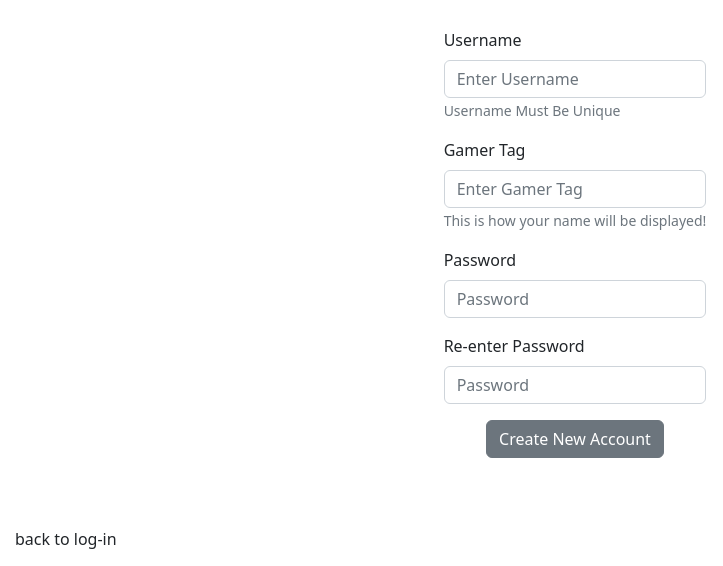
Ticket # and story name › should check that passwords do not match
This screenshot has width=723, height=566.
Step 1. Type "testUsername" into the field labelled "Username" → (575, 79), box [444,60,706,98]
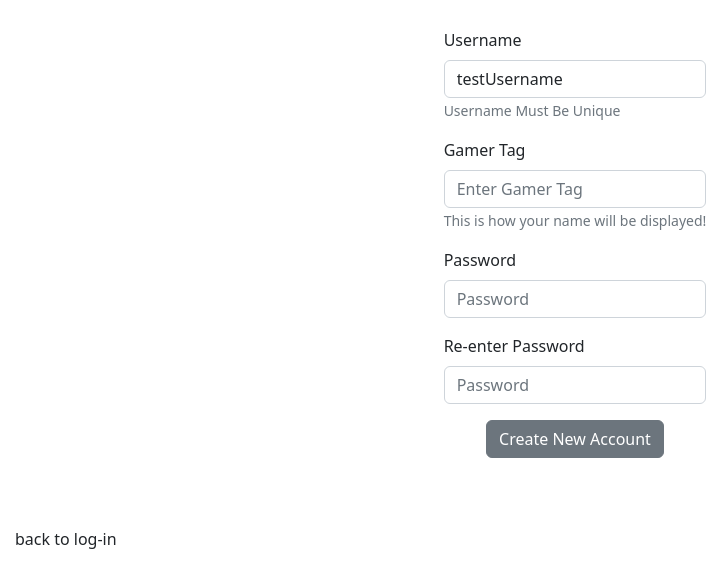
Step 2. Type "testPassword" into the password field labelled "Password" → (575, 299), box [444,280,706,318]
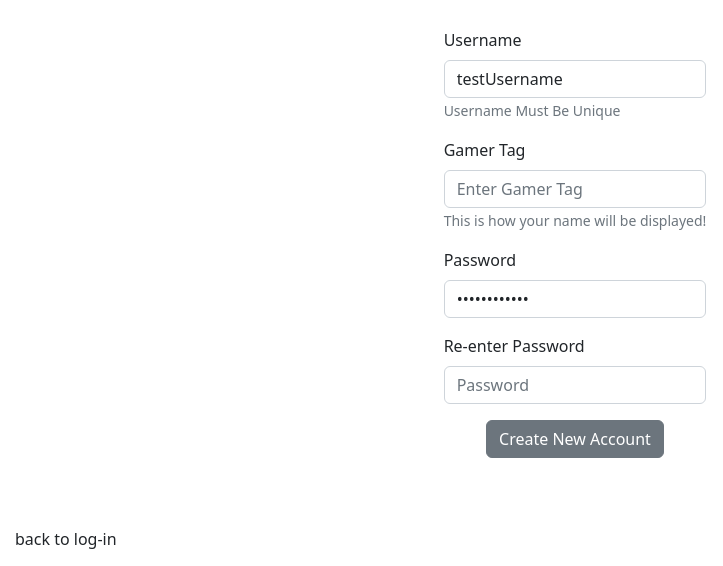
Step 3. Type "testPassword2" into the password field labelled "Re-enter Password" → (575, 385), box [444,366,706,404]
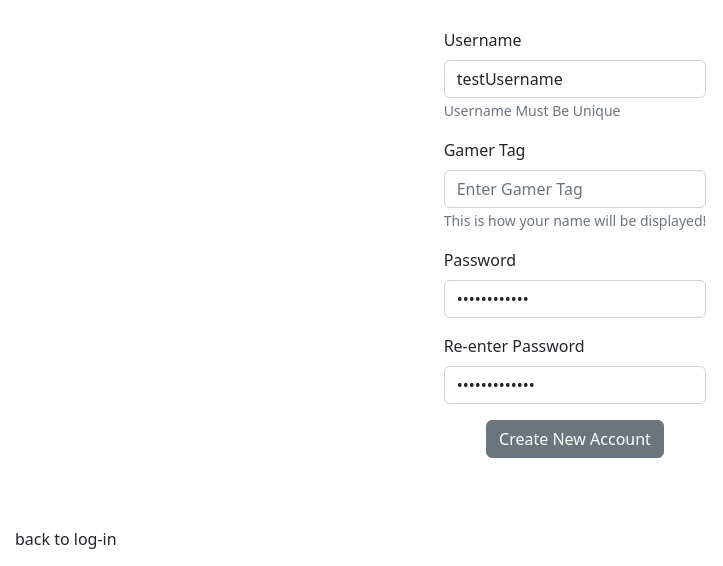
Step 4. Click the button "Create New Account" → (575, 439), box [486,420,664,458]
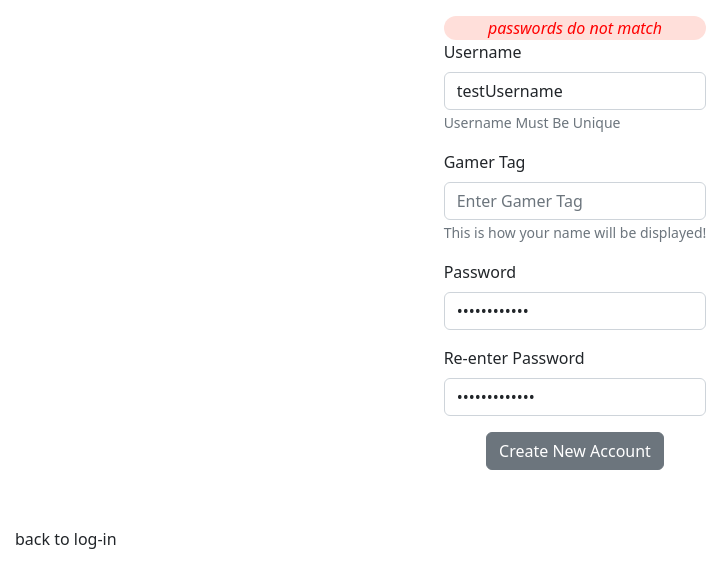
Now the text "passwords do not match" is shown, box [444,16,706,40]
